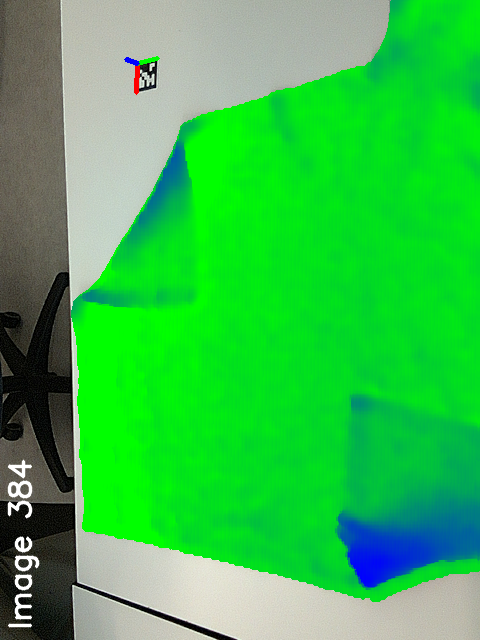V: (329, 374, 393, 439), (154, 260, 218, 313)
